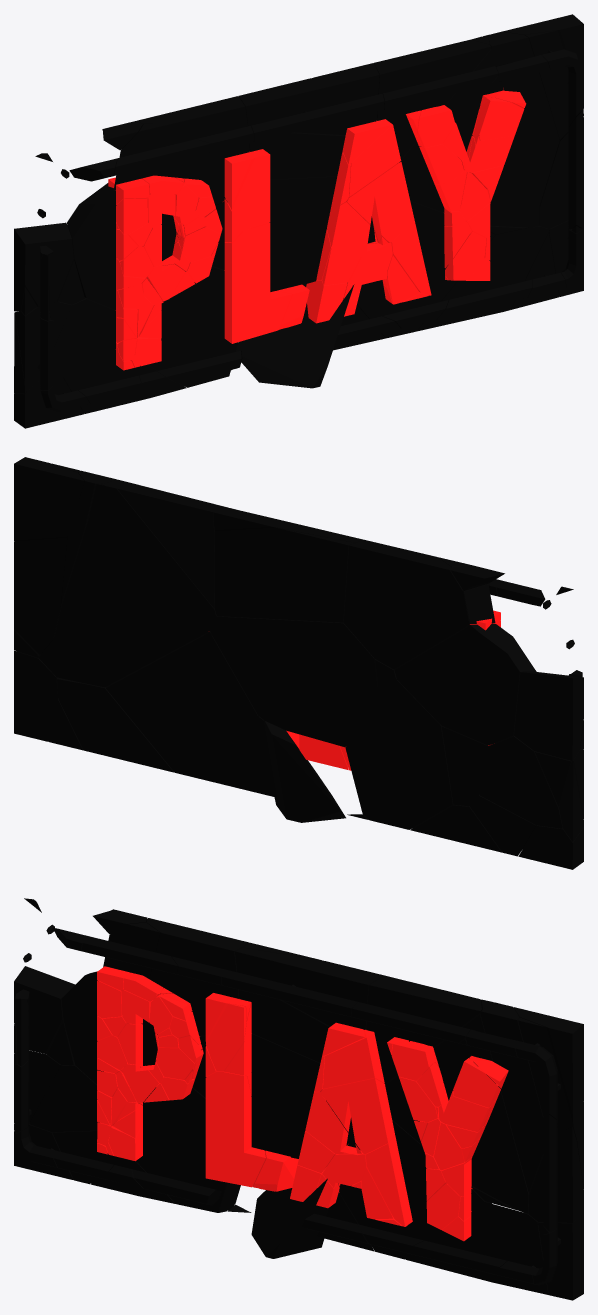
File: ButtonPlay.fbx
3 renders of one model, top to bottom at view 1: azimuth 30°, elevation 25°; view 2: azimuth 150°, elevation 25°; view 3: azimuth 330°, elevation 25°, orthographic.
Visible parts, largest first — view 1: SM_Sign_Backing_Short_04_cell.023, SM_Sign_Backing_Short_04_cell, SM_Sign_3dText_Letter_L_cell.011, SM_Sign_Backing_Short_04_cell.035, SM_Sign_Backing_Short_04_cell.015, SM_Sign_Backing_Short_04_cell.014, SM_Sign_Backing_Short_04_cell.037, SM_Sign_Backing_Short_04_cell.018, SM_Sign_Backing_Short_04_cell.005, SM_Sign_Backing_Short_04_cell.039, SM_Sign_Backing_Short_04_cell.028, SM_Sign_Backing_Short_04_cell.020 (+66 smaller); view 2: SM_Sign_Backing_Short_04_cell, SM_Sign_Backing_Short_04_cell.023, SM_Sign_Backing_Short_04_cell.028, SM_Sign_Backing_Short_04_cell.005, SM_Sign_Backing_Short_04_cell.025, SM_Sign_Backing_Short_04_cell.035, SM_Sign_Backing_Short_04_cell.014, SM_Sign_Backing_Short_04_cell.018, SM_Sign_Backing_Short_04_cell.016, SM_Sign_Backing_Short_04_cell.052, SM_Sign_Backing_Short_04_cell.020, SM_Sign_Backing_Short_04_cell.048 (+18 smaller); view 3: SM_Sign_Backing_Short_04_cell.023, SM_Sign_Backing_Short_04_cell, SM_Sign_Backing_Short_04_cell.035, SM_Sign_3dText_Letter_L_cell.011, SM_Sign_Backing_Short_04_cell.037, SM_Sign_Backing_Short_04_cell.039, SM_Sign_Backing_Short_04_cell.018, SM_Sign_Backing_Short_04_cell.005, SM_Sign_Backing_Short_04_cell.020, SM_Sign_Backing_Short_04_cell.028, SM_Sign_Backing_Short_04_cell.015, SM_Sign_Backing_Short_04_cell.025 (+68 smaller).
Part boxes in pixels (bbox=[...]): SM_Sign_Backing_Short_04_cell.023: bbox=[399, 36, 539, 227]; SM_Sign_Backing_Short_04_cell: bbox=[269, 176, 372, 291]; SM_Sign_3dText_Letter_L_cell.011: bbox=[224, 223, 291, 343]; SM_Sign_Backing_Short_04_cell.035: bbox=[148, 266, 237, 387]; SM_Sign_Backing_Short_04_cell.015: bbox=[235, 284, 354, 388]; SM_Sign_Backing_Short_04_cell.014: bbox=[67, 183, 178, 309]; SM_Sign_Backing_Short_04_cell.037: bbox=[243, 63, 379, 134]; SM_Sign_Backing_Short_04_cell.018: bbox=[374, 39, 491, 159]; SM_Sign_Backing_Short_04_cell.005: bbox=[137, 96, 249, 205]; SM_Sign_Backing_Short_04_cell.039: bbox=[488, 31, 559, 204]; SM_Sign_Backing_Short_04_cell.028: bbox=[357, 201, 494, 338]; SM_Sign_Backing_Short_04_cell.020: bbox=[416, 225, 548, 331]; SM_Sign_Backing_Short_04_cell: bbox=[210, 616, 377, 747]; SM_Sign_Backing_Short_04_cell.023: bbox=[54, 481, 216, 638]; SM_Sign_Backing_Short_04_cell.028: bbox=[105, 631, 258, 783]; SM_Sign_Backing_Short_04_cell.005: bbox=[343, 539, 469, 669]; SM_Sign_Backing_Short_04_cell.025: bbox=[214, 527, 354, 622]; SM_Sign_Backing_Short_04_cell.035: bbox=[345, 680, 453, 829]; SM_Sign_Backing_Short_04_cell.014: bbox=[394, 624, 536, 745]; SM_Sign_Backing_Short_04_cell.018: bbox=[116, 479, 228, 608]; SM_Sign_Backing_Short_04_cell.016: bbox=[38, 631, 208, 687]; SM_Sign_Backing_Short_04_cell.052: bbox=[514, 672, 583, 760]; SM_Sign_Backing_Short_04_cell.020: bbox=[57, 677, 174, 772]; SM_Sign_Backing_Short_04_cell.048: bbox=[14, 538, 66, 654]; SM_Sign_Backing_Short_04_cell.023: bbox=[385, 999, 528, 1213]; SM_Sign_Backing_Short_04_cell: bbox=[251, 1033, 354, 1158]; SM_Sign_Backing_Short_04_cell.035: bbox=[136, 1087, 240, 1212]; SM_Sign_3dText_Letter_L_cell.011: bbox=[205, 1071, 265, 1187]; SM_Sign_Backing_Short_04_cell.037: bbox=[234, 947, 384, 1029]; SM_Sign_Backing_Short_04_cell.039: bbox=[480, 1004, 543, 1193]; SM_Sign_Backing_Short_04_cell.018: bbox=[366, 975, 481, 1083]; SM_Sign_Backing_Short_04_cell.005: bbox=[146, 918, 248, 1036]; SM_Sign_Backing_Short_04_cell.020: bbox=[406, 1202, 538, 1283]; SM_Sign_Backing_Short_04_cell.028: bbox=[338, 1120, 491, 1259]; SM_Sign_Backing_Short_04_cell.015: bbox=[251, 1178, 328, 1258]; SM_Sign_Backing_Short_04_cell.025: bbox=[238, 942, 330, 1062].
Size of the model in its own units: 232 by 112 by 25.89.
